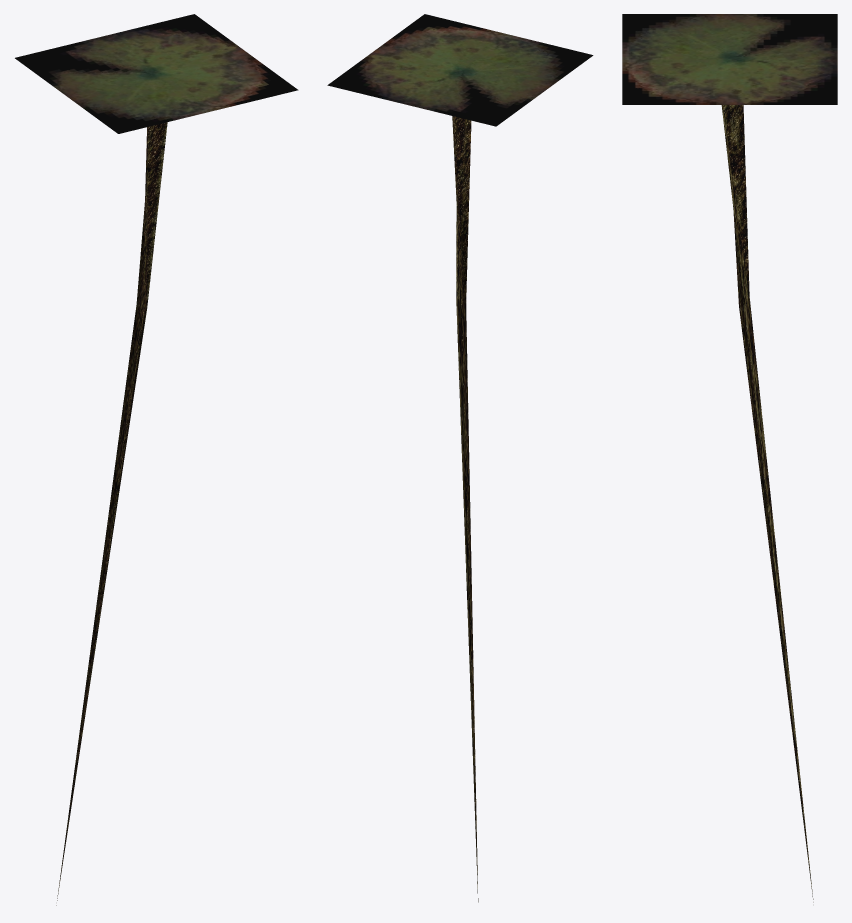
File: flora_bc_lilypad_01.obj
3 renders of one model, left to right at view 1: azimuth 30°, elevation 25°; view 2: azimuth 150°, elevation 25°; view 3: azimuth 270°, elevation 25°, orthographic. The views are drawn at different scales.
Visible parts, largest first — view 1: nifid_3-matrix_Tri_Pad_0-lib, nifid_9-matrix_Tri_Flora_BC_Lilypad_01_0-lib; view 2: nifid_3-matrix_Tri_Pad_0-lib, nifid_9-matrix_Tri_Flora_BC_Lilypad_01_0-lib; view 3: nifid_3-matrix_Tri_Pad_0-lib, nifid_9-matrix_Tri_Flora_BC_Lilypad_01_0-lib.
Part boxes in pixels (x1,y1,x2,y2): nifid_3-matrix_Tri_Pad_0-lib: (15,14,298,133); nifid_9-matrix_Tri_Flora_BC_Lilypad_01_0-lib: (56,122,167,905); nifid_3-matrix_Tri_Pad_0-lib: (327,14,593,126); nifid_9-matrix_Tri_Flora_BC_Lilypad_01_0-lib: (452,116,478,902); nifid_3-matrix_Tri_Pad_0-lib: (622,14,837,104); nifid_9-matrix_Tri_Flora_BC_Lilypad_01_0-lib: (721,105,813,902).
Size of the model in its own units: 1.27 by 5.72 by 1.27.
